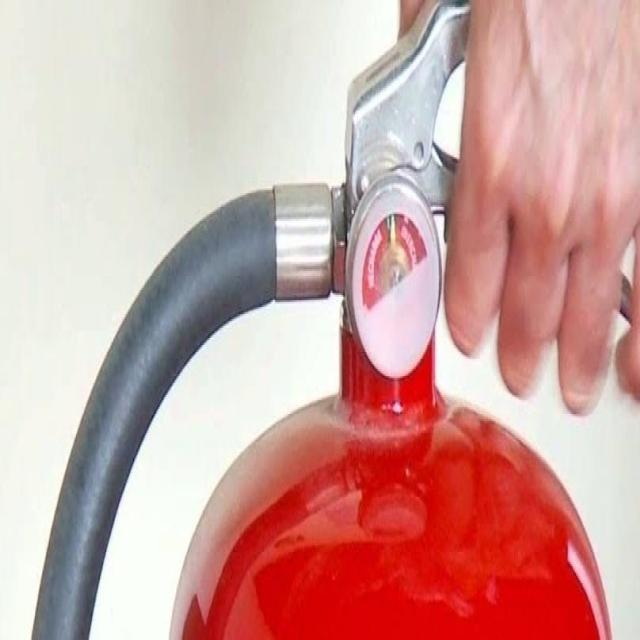fire_extinguisher: (20, 0, 638, 638)
